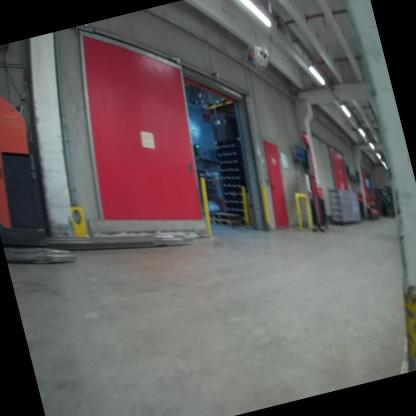pallet: (208, 207, 249, 237), (210, 204, 241, 225)
pallet_truck: (0, 21, 207, 288), (296, 172, 336, 241)
